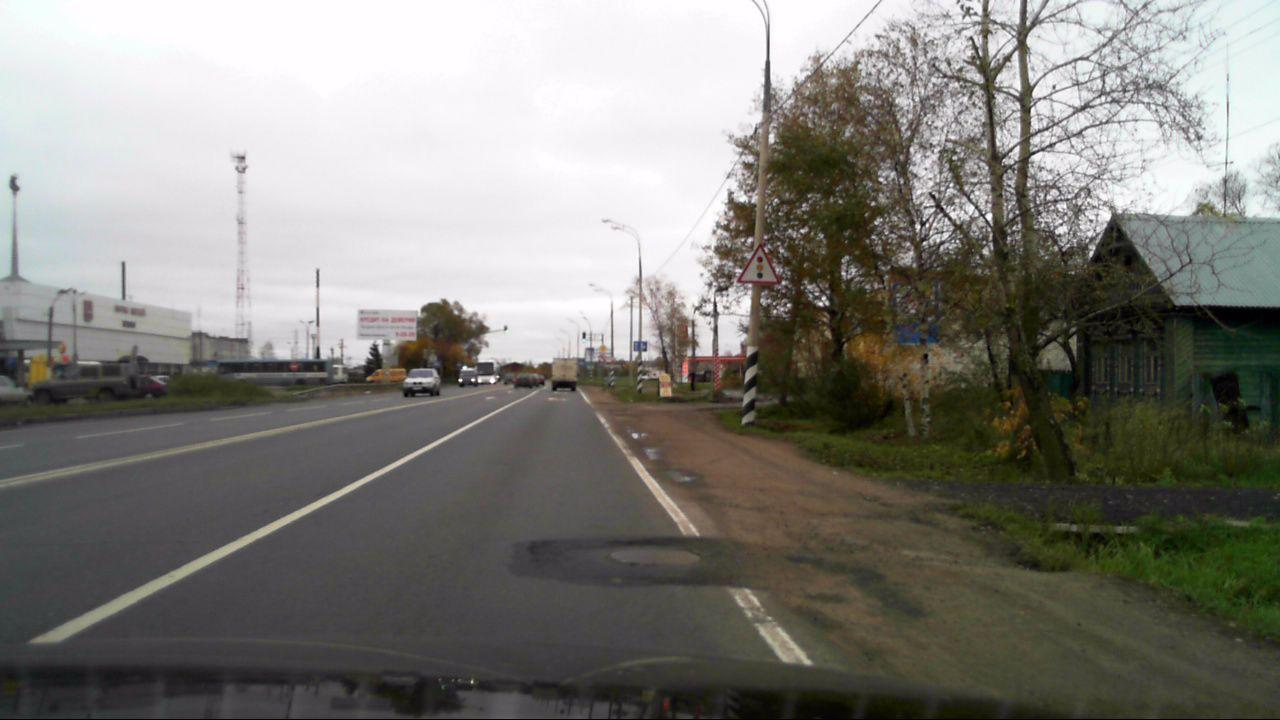1_8: (739, 244, 778, 284)
